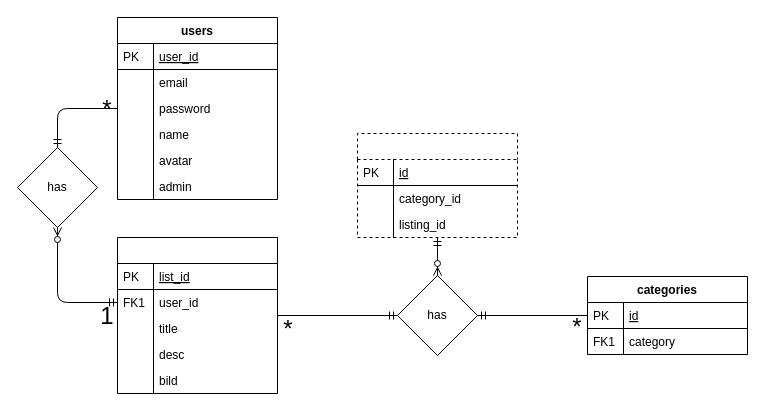
The diagram is 765 pixels wide and 414 high, and some of its shapes have lost their labels. Each missing label, with the box of its shape:
listing_cate_rel: (356, 132, 518, 238)
listings: (116, 236, 278, 394)
